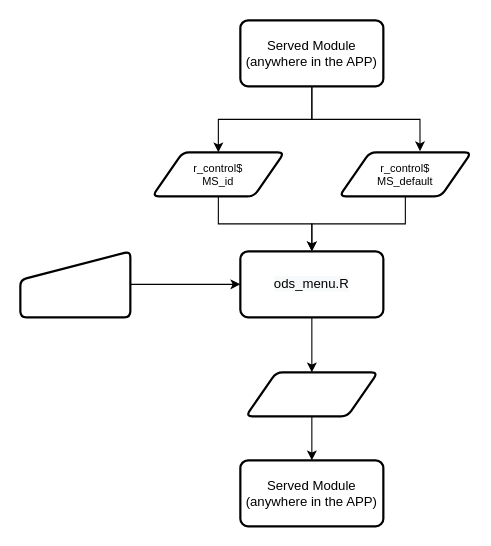
Image size: 491x546. Some labels were removed from this diagram. The box of each missing label's shape, as (x1, y1, x2, y2) in pixels:
r_control$ MS_user_input: (244, 371, 378, 417)
User Input (Menu): (19, 250, 131, 318)
